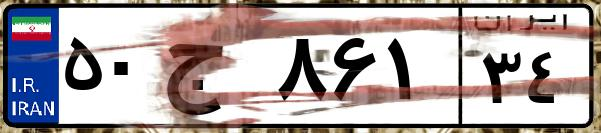0: (110, 28, 158, 98)
1: (385, 28, 445, 110)
3: (475, 38, 525, 113)
4: (525, 38, 570, 115)
5: (57, 26, 110, 100)
6: (330, 28, 385, 110)
8: (270, 28, 330, 110)
ج: (158, 20, 270, 120)
